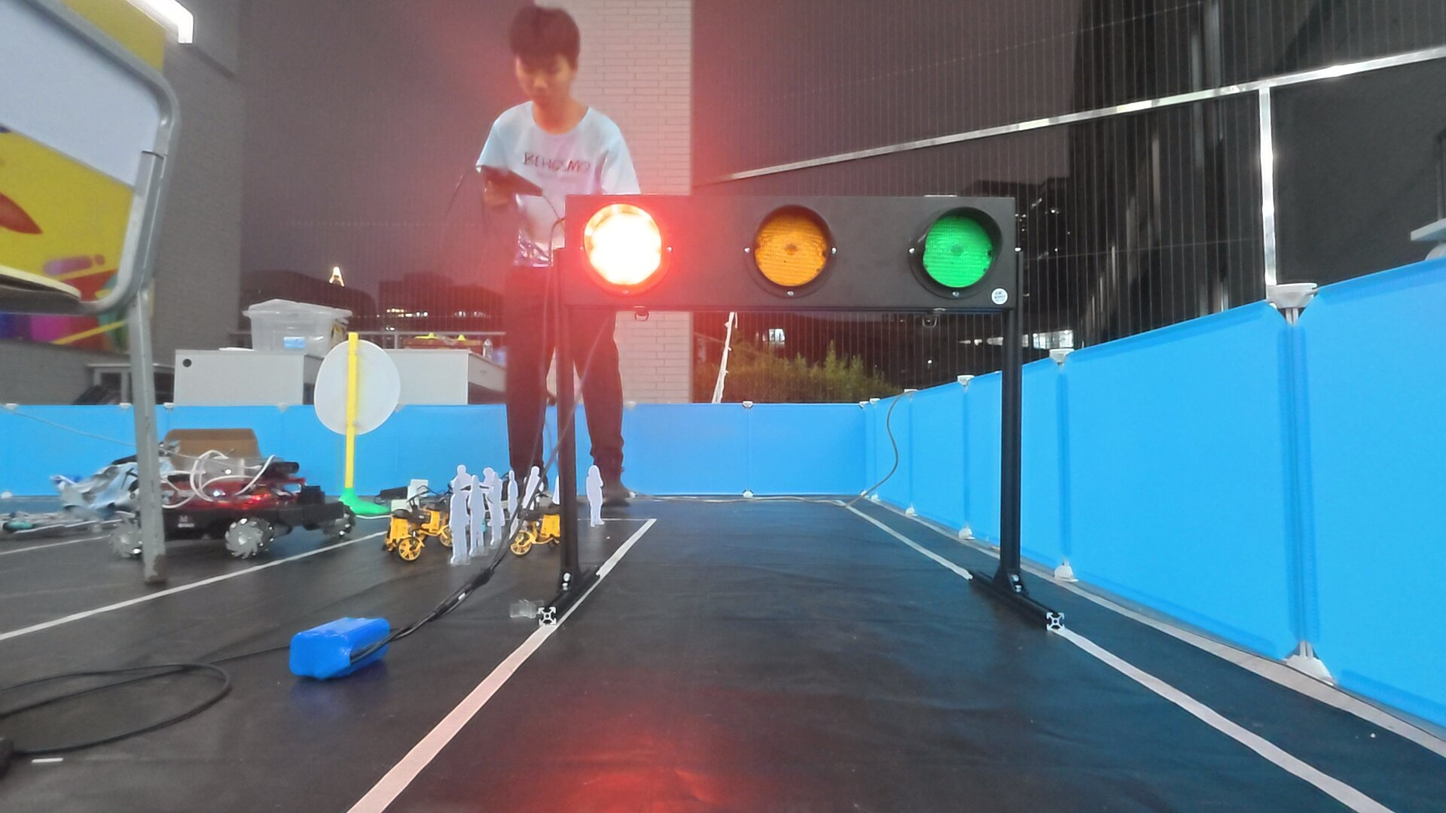stop: (572, 195, 676, 302)
